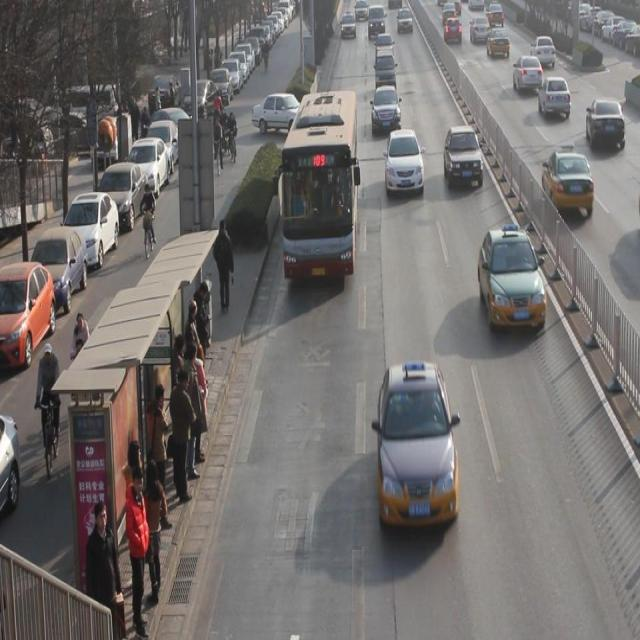car: (378, 362, 458, 528), (478, 226, 547, 330), (542, 144, 595, 217), (445, 125, 484, 191), (386, 129, 424, 195), (586, 98, 625, 150), (538, 76, 571, 120), (372, 86, 401, 133), (512, 54, 543, 94), (530, 34, 556, 68), (487, 26, 510, 57), (469, 16, 491, 42), (444, 16, 462, 44), (398, 2, 413, 34), (376, 32, 393, 58), (341, 12, 356, 38)
truck: (375, 50, 396, 90), (368, 1, 386, 40)
van: (281, 96, 356, 282)
